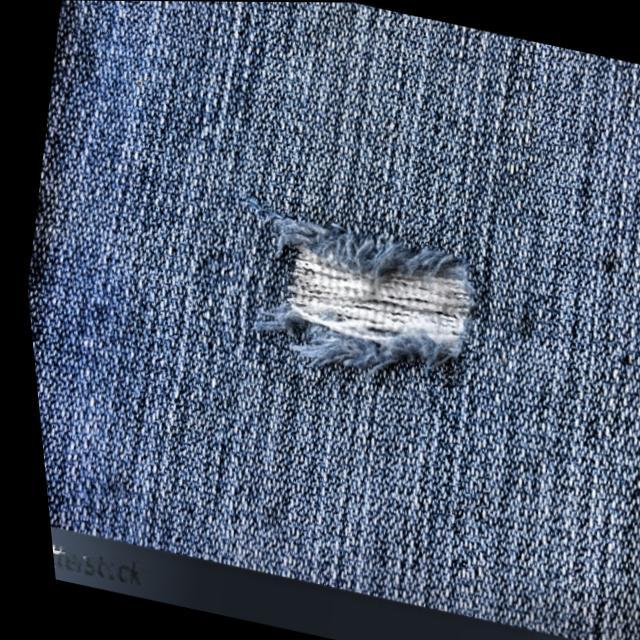hole: (282, 222, 476, 360)
